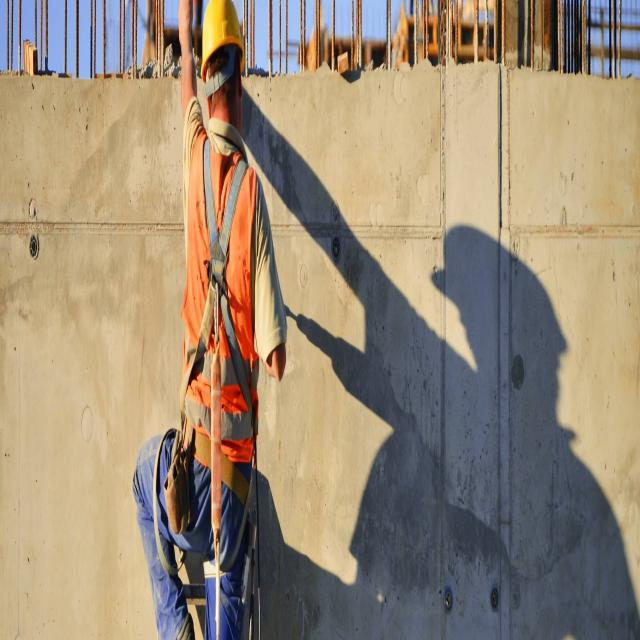Reflective-Jacket: (178, 126, 264, 468)
Safety-Helmet: (198, 0, 245, 80)
